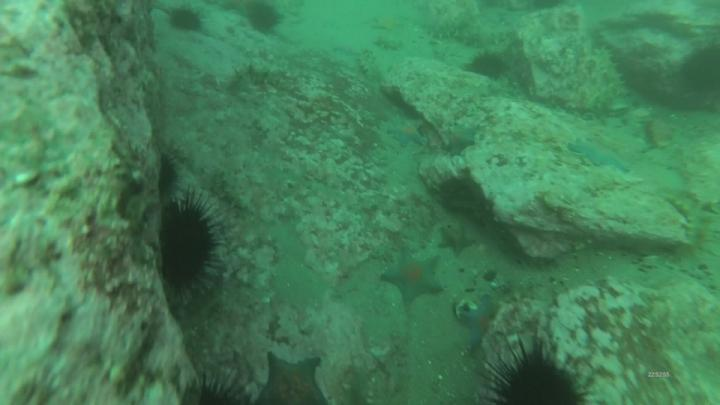echinus: (495, 353, 575, 405), (167, 207, 213, 290), (436, 173, 496, 224), (159, 154, 182, 197), (249, 5, 280, 34), (475, 54, 510, 79), (173, 9, 207, 34)
holothurian: (671, 204, 718, 264), (599, 49, 634, 98), (238, 67, 300, 92), (468, 27, 513, 48), (359, 47, 384, 84), (425, 18, 462, 39), (377, 34, 401, 51)
starfish: (261, 354, 325, 405), (390, 247, 444, 306), (572, 138, 633, 169), (466, 301, 496, 350), (390, 121, 428, 147), (443, 225, 474, 256), (452, 127, 477, 152), (373, 15, 404, 32)
